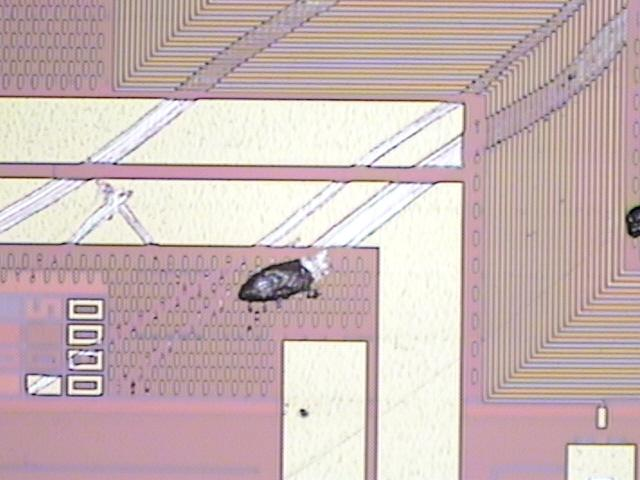SCRATCH: (1, 1, 640, 402)
